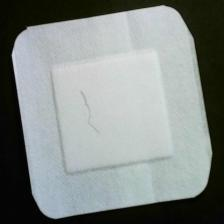Dressing: (11, 6, 217, 221)
F_Body: (74, 87, 112, 147)
